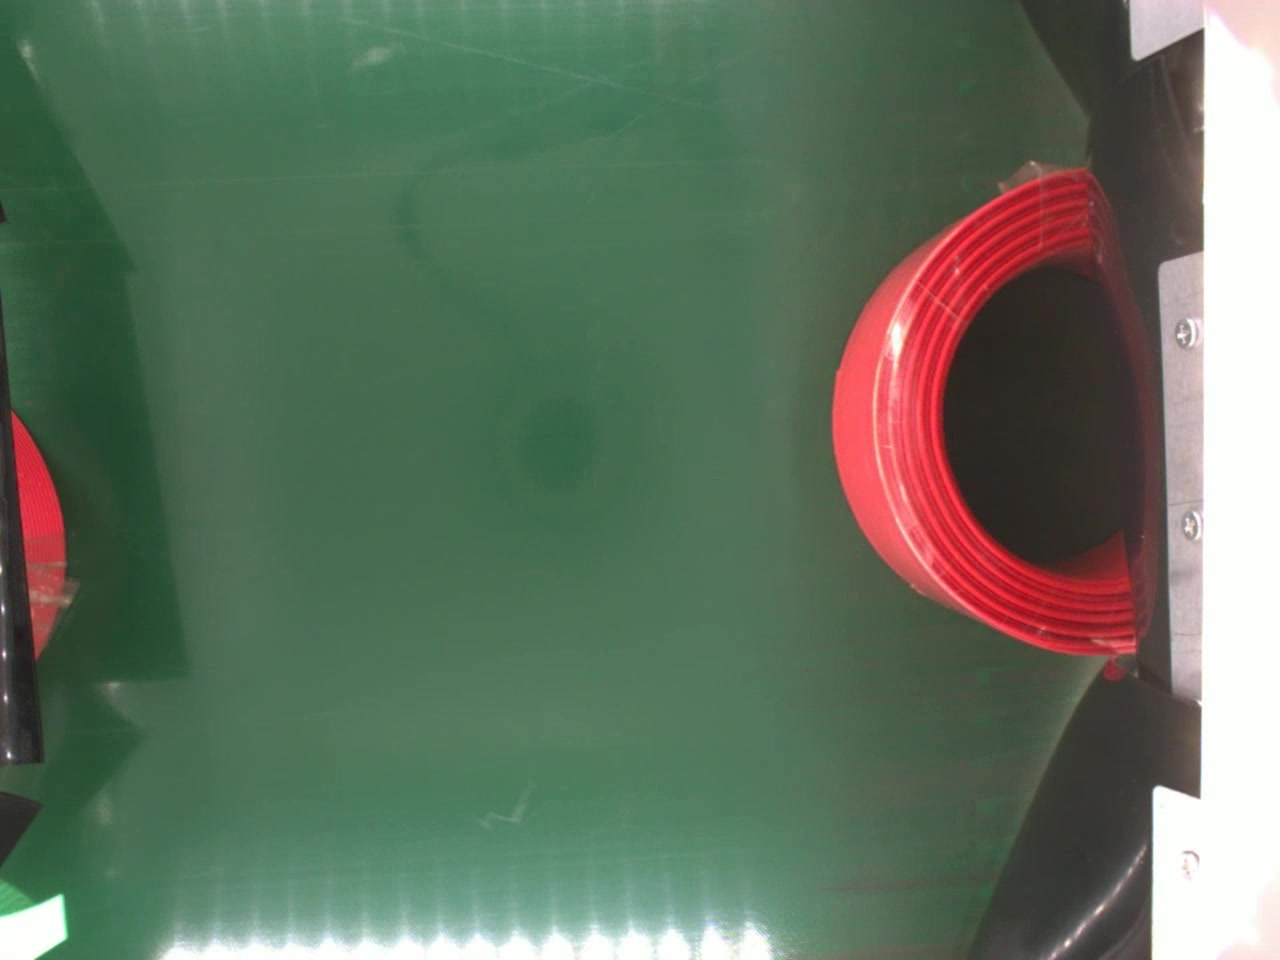red: (826, 164, 1135, 662)
